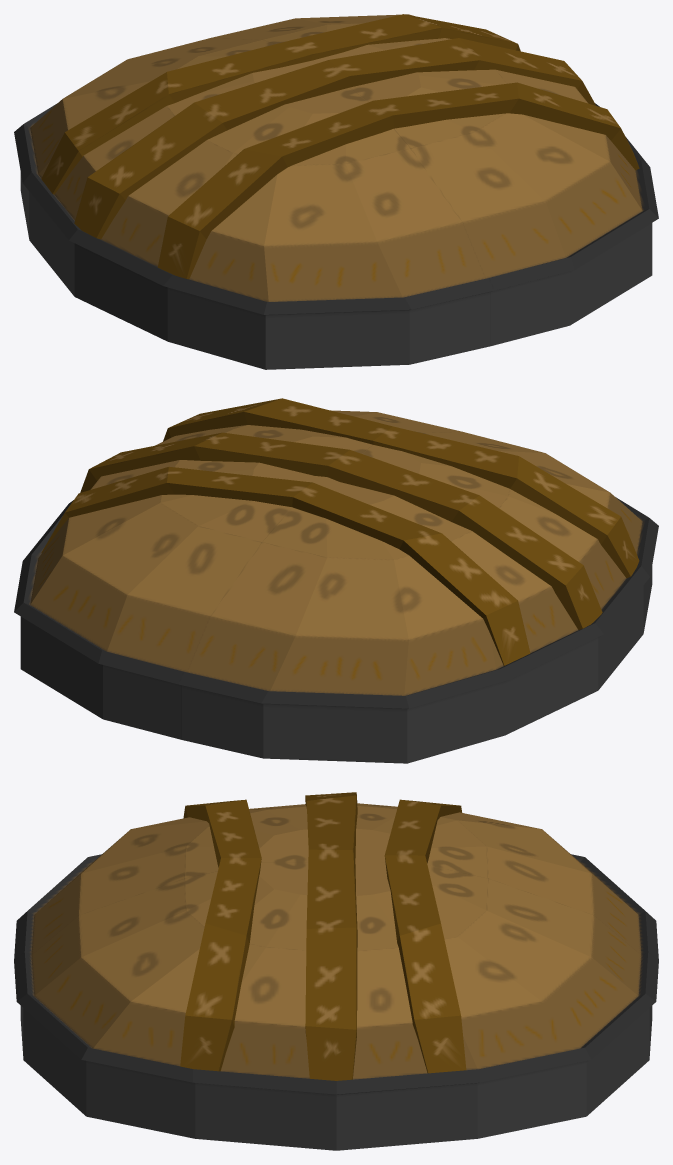
Rendered from Torta.fbx.
3 views of the same model, one above another, from view 1: azimuth 30°, elevation 25°; view 2: azimuth 150°, elevation 25°; view 3: azimuth 270°, elevation 25° (orthographic). The views are drawn at different scales.
Visible parts, largest first — view 1: Torta; view 2: Torta; view 3: Torta.
Boxes of the visible parts, <box> form: Torta: <box>14,14,658,369</box>; Torta: <box>14,398,658,763</box>; Torta: <box>14,792,658,1150</box>.
Bounding box in the file's own units: 252 × 75.23 × 258.
